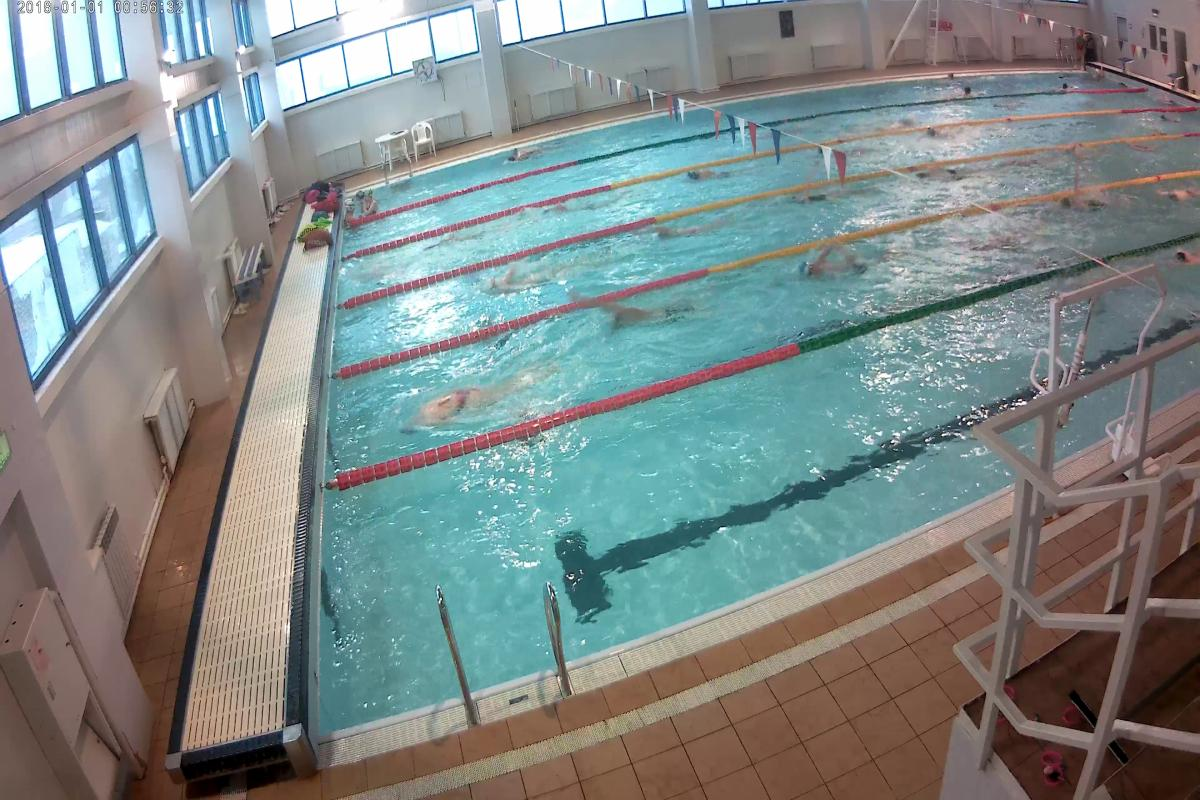swimmer: (402, 362, 550, 434), (596, 290, 706, 351), (782, 247, 878, 286), (676, 160, 746, 189), (1052, 190, 1113, 219), (910, 160, 965, 186), (1157, 176, 1198, 206)
